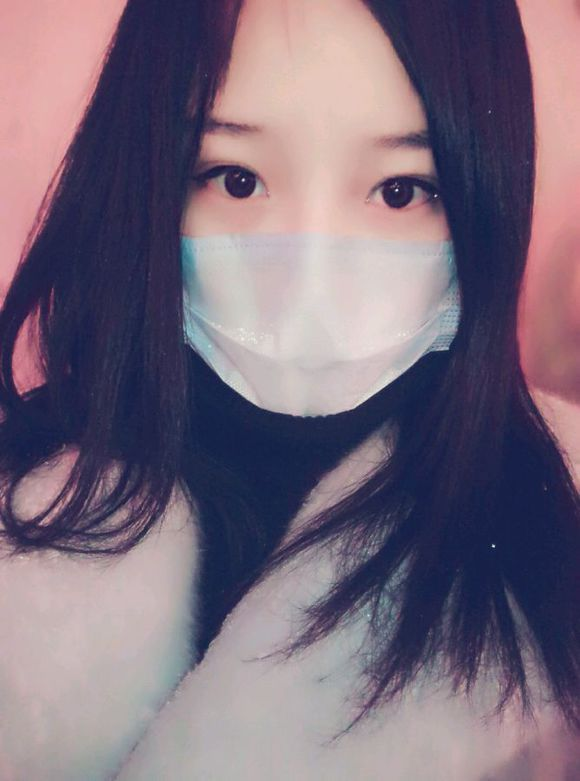face_mask: (171, 1, 450, 418)
